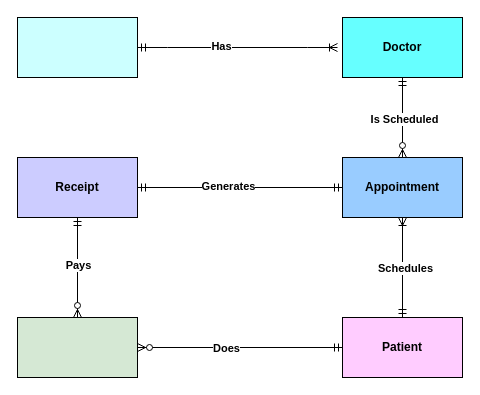
Image size: 480x395. Some labels were removed from this diagram. The shapes that lost their labels are listed below. From the top down, each one's centre as x and y in pixels, then its label:
At (x=77, y=47): "Hospital".
At (x=77, y=347): "Payment".
